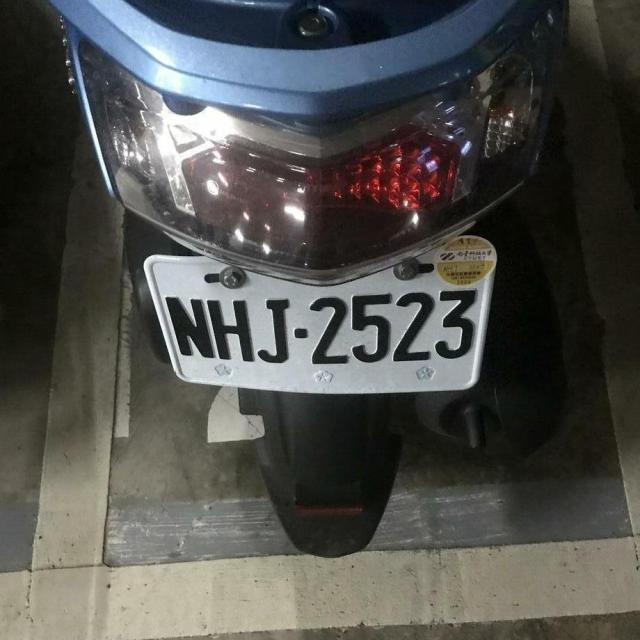W: (139, 238, 506, 400)
